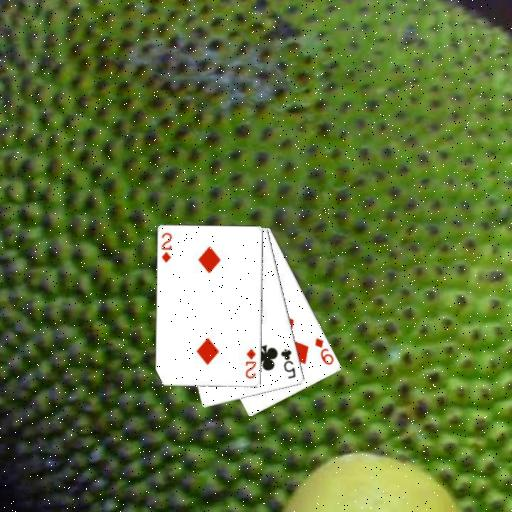2D: (243, 346, 259, 381), (158, 230, 174, 264)
5C: (278, 346, 297, 381)
9D: (312, 335, 336, 367)
